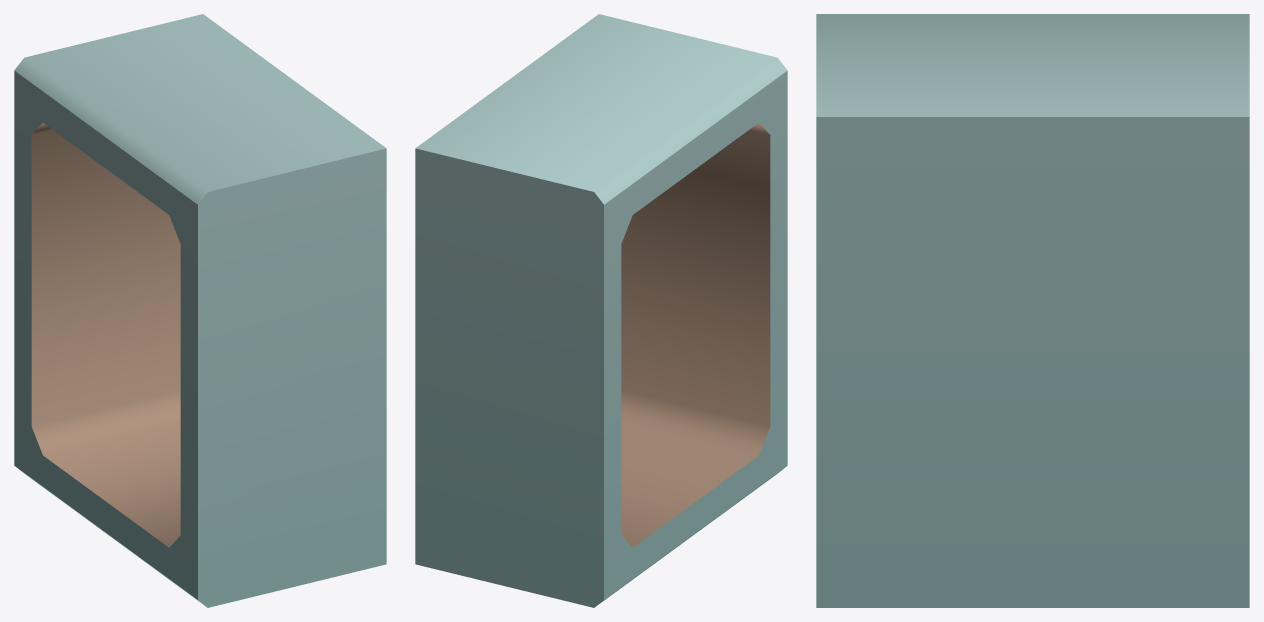
File: cabinet-decorative-upper-narrow (%wall).glb
3 renders of one model, left to right at view 1: azimuth 30°, elevation 25°; view 2: azimuth 150°, elevation 25°; view 3: azimuth 270°, elevation 25°, orthographic. The views are drawn at different scales.
Visible parts, largest first — view 1: cabinet-decorative-upper-narrow (%wall); view 2: cabinet-decorative-upper-narrow (%wall); view 3: cabinet-decorative-upper-narrow (%wall).
Part boxes in pixels (<box>): cabinet-decorative-upper-narrow (%wall): <box>14,14,386,607</box>; cabinet-decorative-upper-narrow (%wall): <box>415,14,787,607</box>; cabinet-decorative-upper-narrow (%wall): <box>816,14,1249,607</box>.
Size of the model in its own units: 0.2375 by 0.5 by 0.4.
